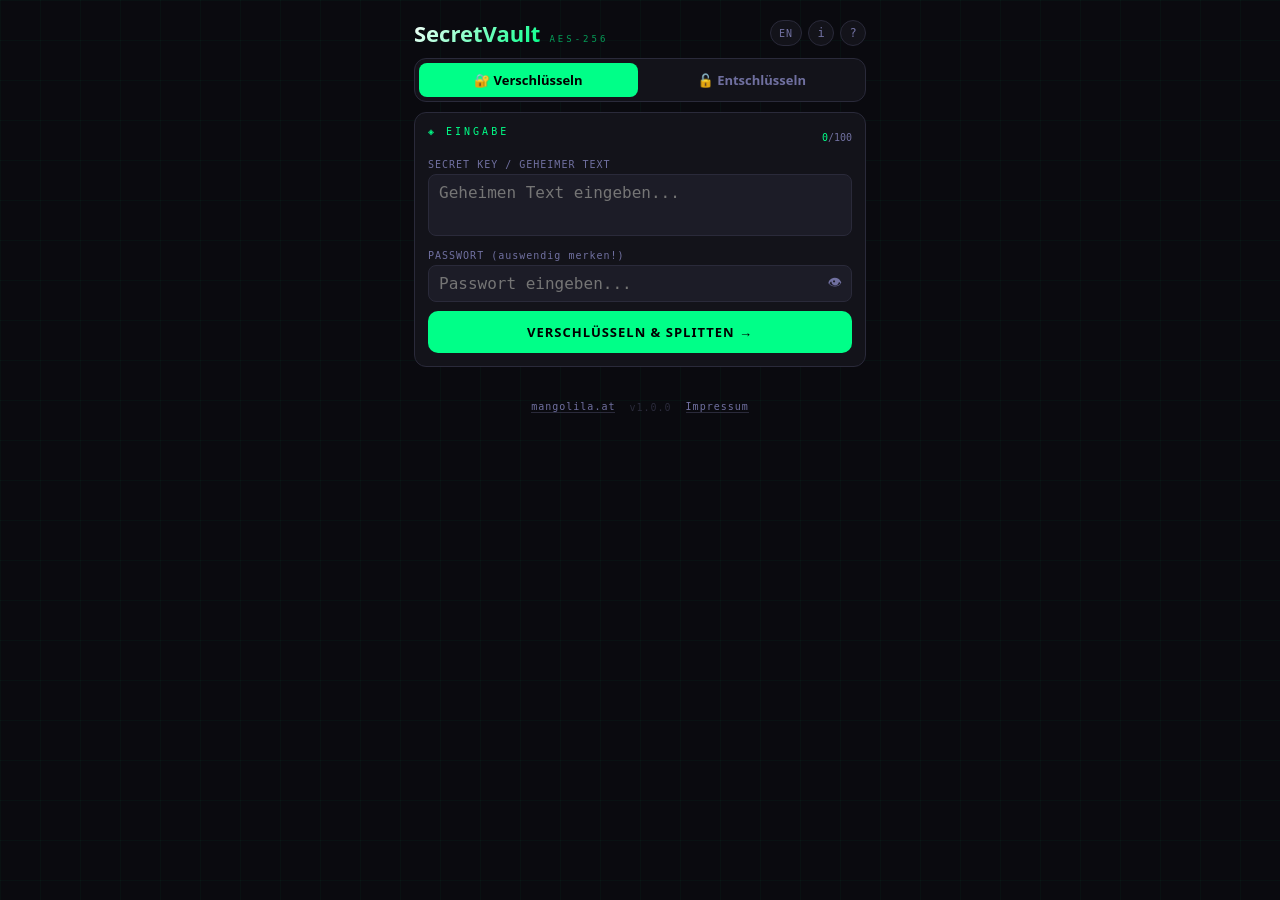
Test: Navigation › wechselt zu Decrypt-Modus
Expected: the button "🔐 Verschlüsseln" is shown, [419,63,638,97]
Click the button "🔓 Entschlüsseln" at (752, 80), box [642,63,861,97]
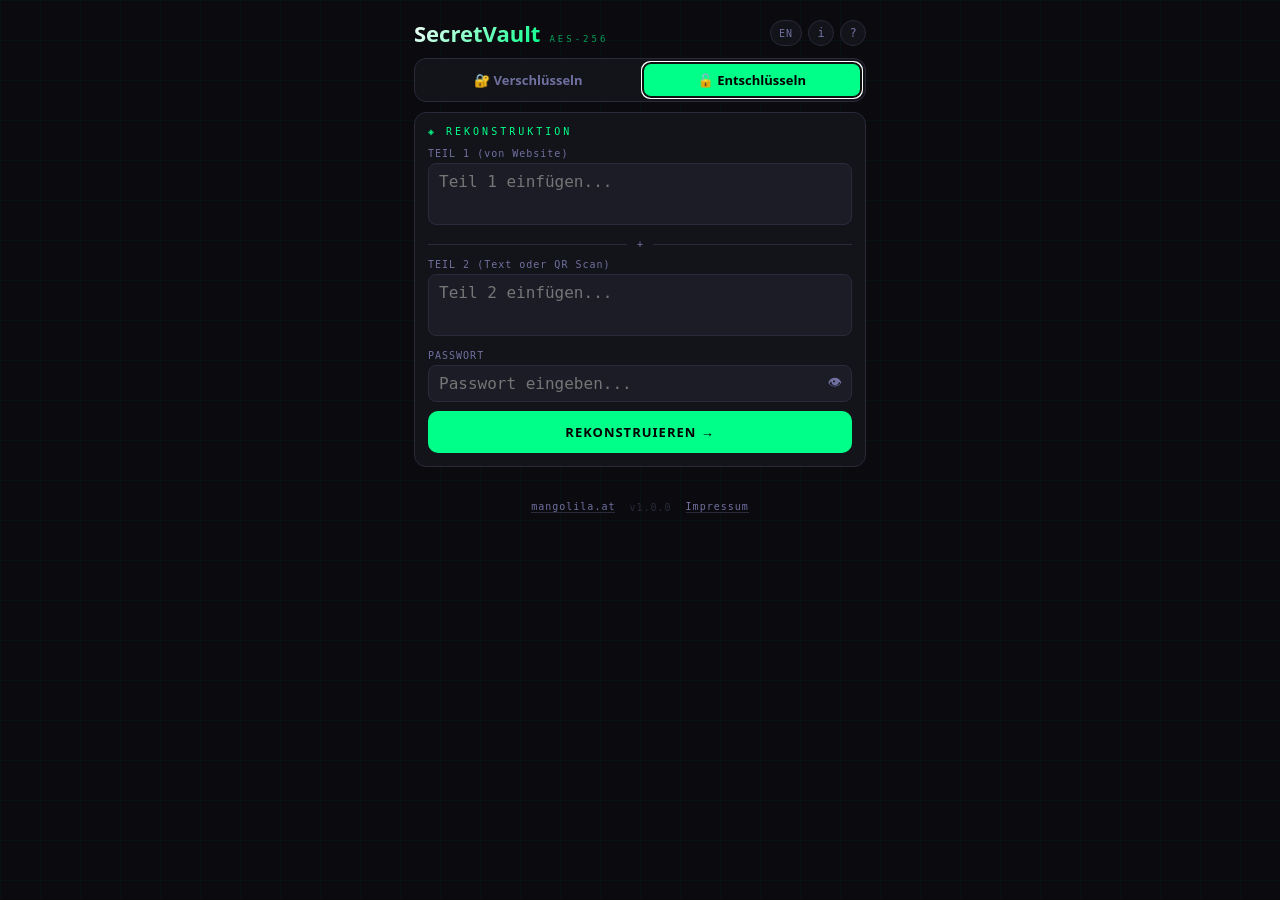
Expected: the text box with placeholder "Teil 1 einfügen..." is shown, [428,163,852,225]
Expected: the text box with placeholder "Teil 2 einfügen..." is shown, [428,274,852,336]
